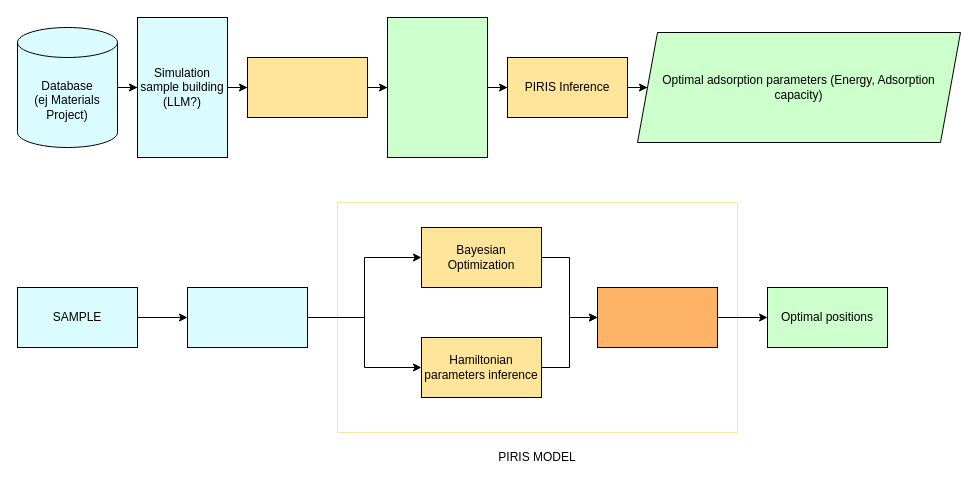
Some shapes in this 978 by 490 pixel diagram are drawn without their labels. The box of each missing label's shape, as (x1, y1, x2, y2) in pixels:
Energy minimization: (596, 286, 718, 348)
Optimal Ion positions: (386, 16, 488, 158)
PIRIS model "Training": (246, 56, 368, 118)
Starting position posibilities: (186, 286, 308, 348)
